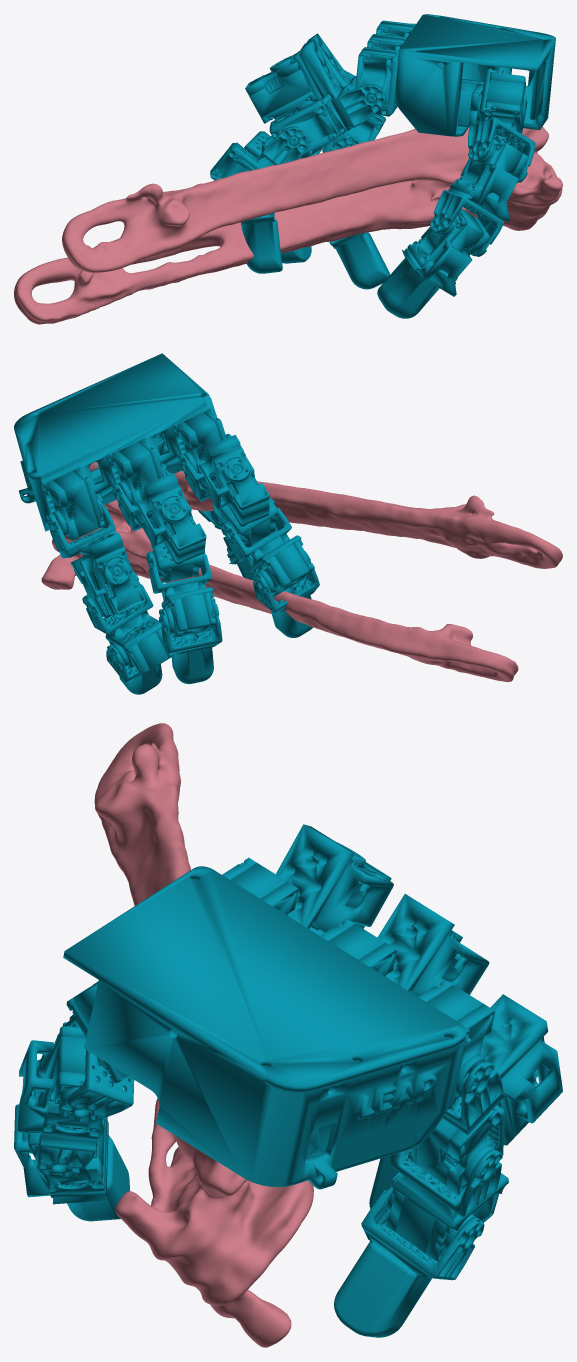
The picture shows the model from 3 angles, top to bottom: view 1: azimuth 30°, elevation 25°; view 2: azimuth 150°, elevation 25°; view 3: azimuth 270°, elevation 25°; orthographic projection. The views are drawn at different scales.
Parts seen in each view (by area): view 1: world; view 2: world; view 3: world.
Part boxes in pixels (<box>): world: <box>14,14,562,324</box>; world: <box>14,353,562,694</box>; world: <box>14,723,562,1347</box>.
Size of the model in its own units: 0.3515 by 0.1776 by 0.1947.
